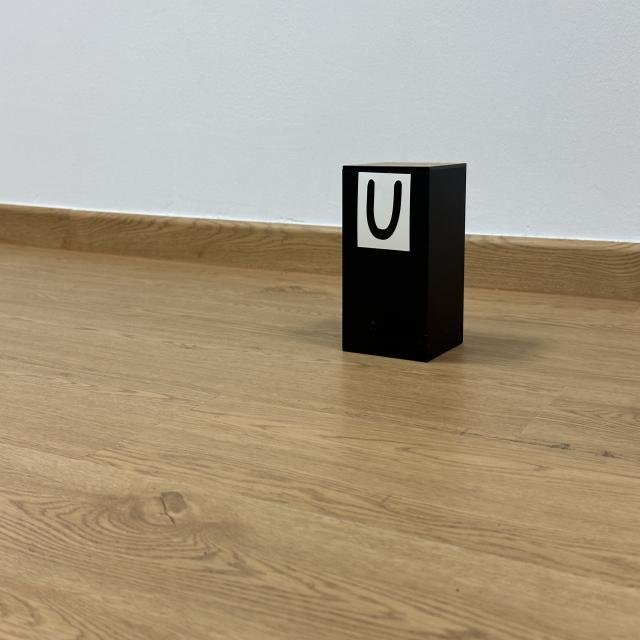U: (366, 180, 402, 240)
